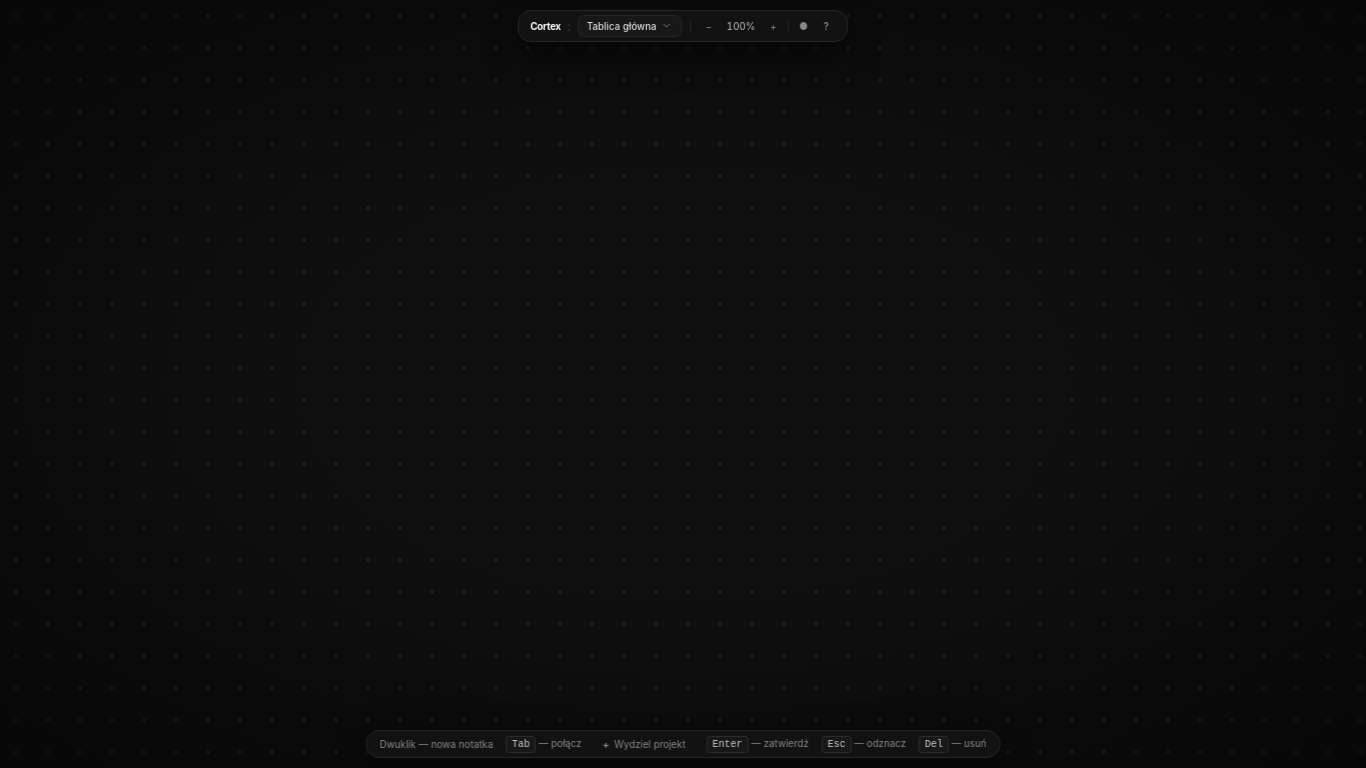
NotesCanvas - Selection, Tab Linking, and Edge Management › opens and closes help modal when ? button is clicked and with Esc key
This screenshot has width=1366, height=768.
Note: Kliknij przycisk pomocy
Click the button with test id "help-toggle" at {"x": 826, "y": 26}, box [816,16,836,36]
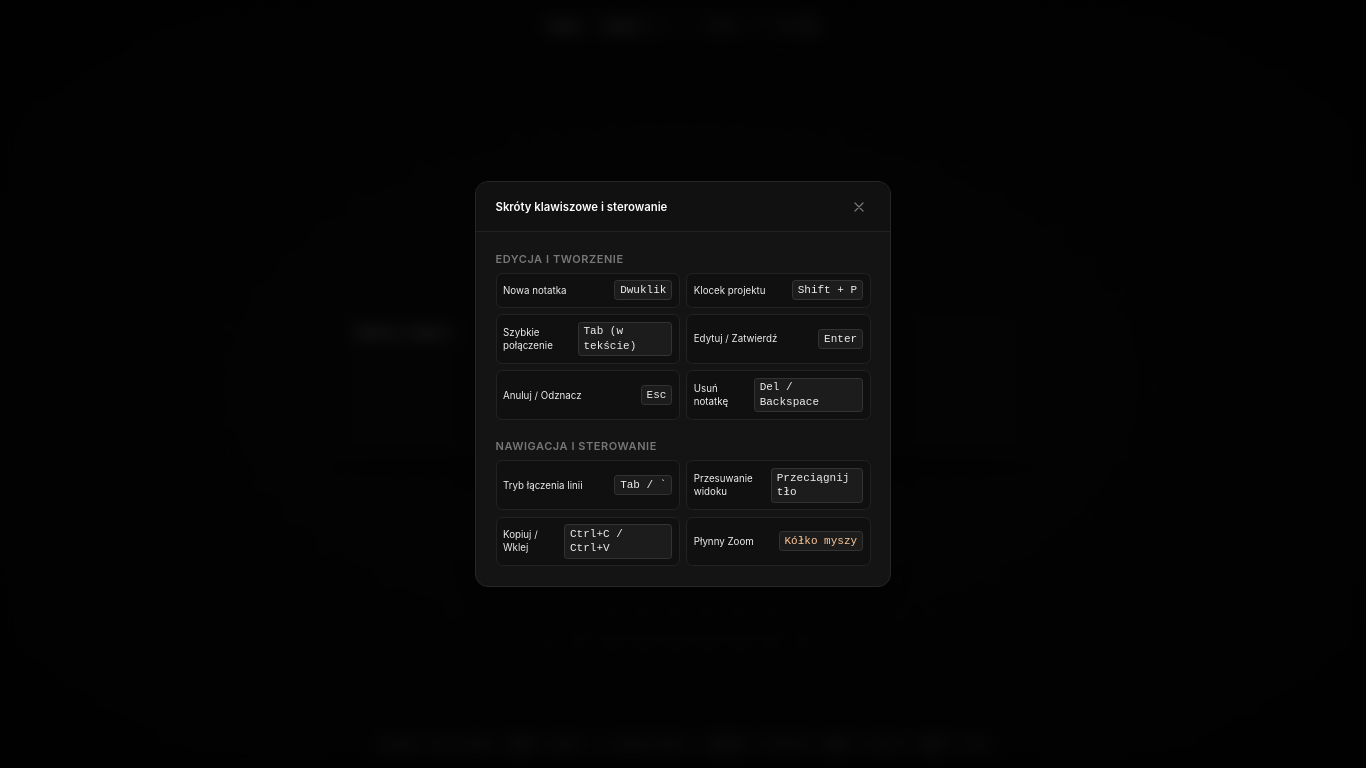
Result: the element with test id "help-modal" is shown at [475,181,891,587]
Result: the element with test id "help-modal" shows "Skróty klawiszowe i sterowanie" at [496,200,667,214]
Result: the element with test id "help-modal" shows "Tab (w tekście)" at [584,325,636,352]
Note: Naciśnij Escape, aby zamknąć modal
Press Escape
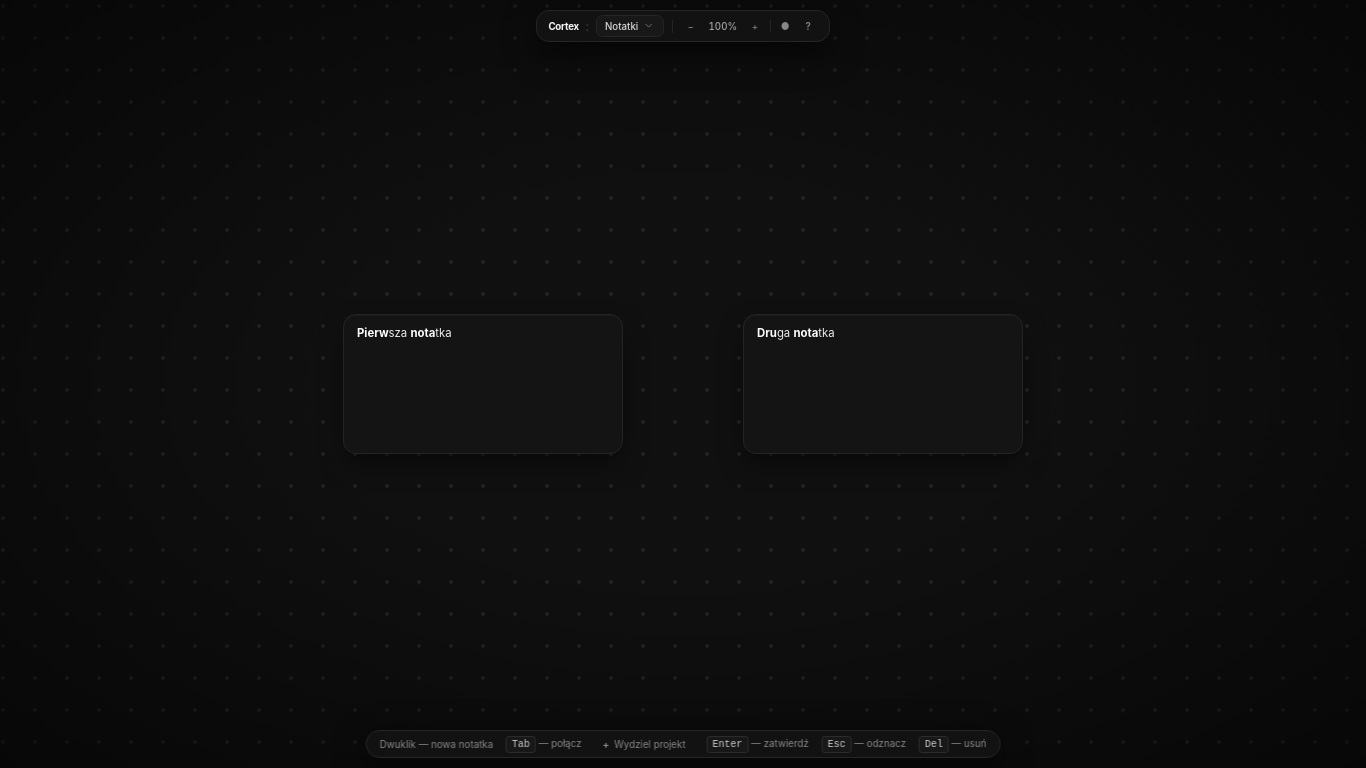
Result: the element with test id "help-modal" is gone
